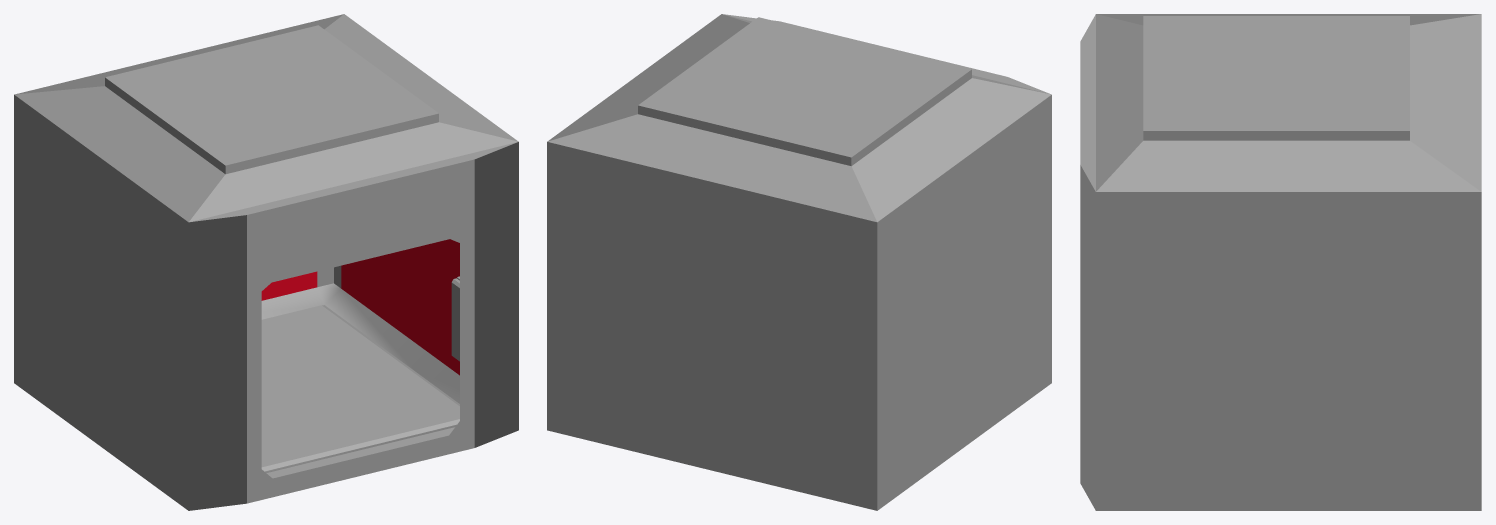
The model's file is elevator_01_hull.fbx.
3 views of the same model, side by side, from view 1: azimuth 30°, elevation 25°; view 2: azimuth 150°, elevation 25°; view 3: azimuth 270°, elevation 25° (orthographic). The views are drawn at different scales.
Visible parts, largest first — view 1: Elevator_01_hull; view 2: Elevator_01_hull; view 3: Elevator_01_hull.
Boxes of the visible parts, x1,y1,x2,y2 form: Elevator_01_hull: (14, 14, 518, 510); Elevator_01_hull: (547, 14, 1051, 510); Elevator_01_hull: (1080, 14, 1481, 510).
Size of the model in its own units: 4.74 by 4.33 by 4.52.
